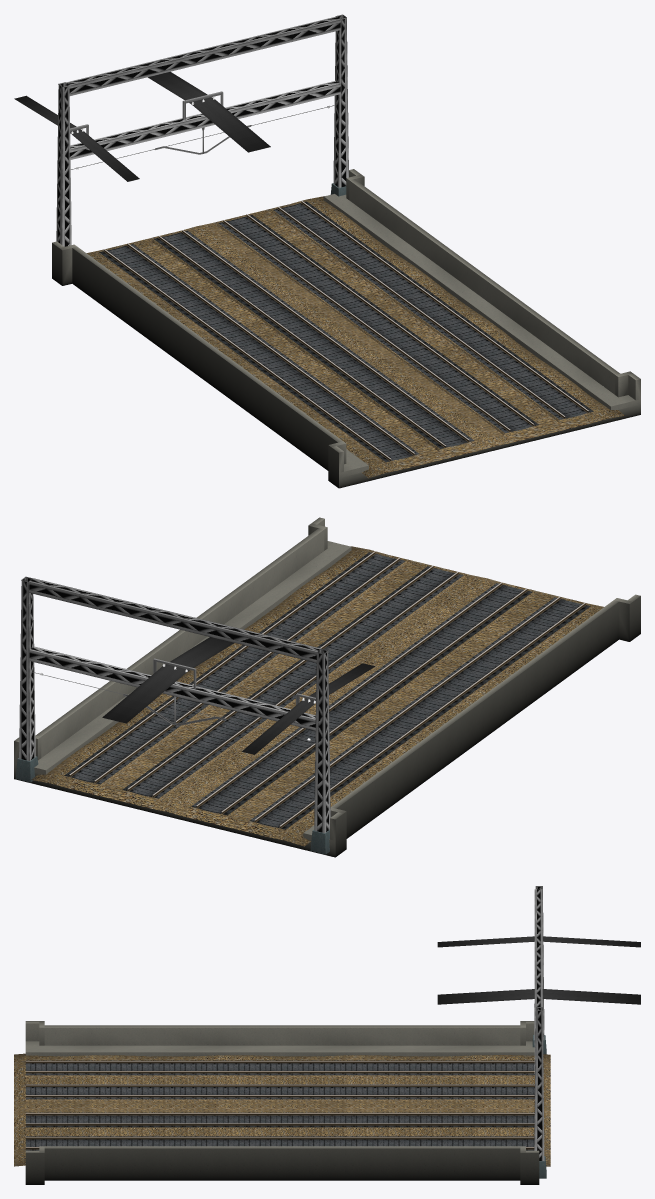
Rendered from 4RAIL_JK.glb.
3 renders of one model, top to bottom at view 1: azimuth 30°, elevation 25°; view 2: azimuth 150°, elevation 25°; view 3: azimuth 270°, elevation 25°, orthographic. The views are drawn at different scales.
Visible parts, largest first — view 1: obj4, kasenchu; view 2: obj4, kasenchu; view 3: obj4, kasenchu.
Part boxes in pixels (x1,y1,x2,y2): obj4: [52, 169, 640, 488]; kasenchu: [14, 14, 348, 246]; obj4: [14, 517, 640, 857]; kasenchu: [15, 576, 375, 854]; obj4: [14, 1021, 550, 1184]; kasenchu: [437, 886, 640, 1178].
Size of the model in its own units: 60.76 by 36.71 by 122.
9 materials, 8 textured.
